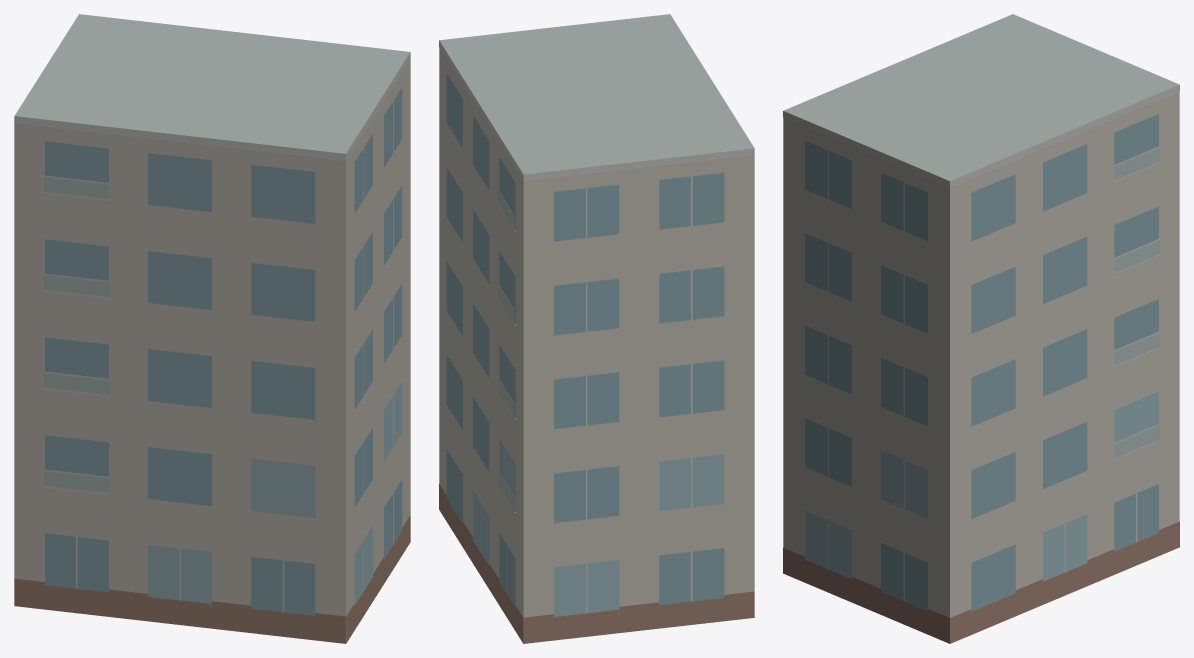
File: survey-upis-32933166.glb
The picture shows the model from 3 angles, left to right: view 1: azimuth 30°, elevation 25°; view 2: azimuth 150°, elevation 25°; view 3: azimuth 270°, elevation 25°; orthographic projection. The views are drawn at different scales.
Parts seen in each view (by area): view 1: survey-upis-32933166.tmp; view 2: survey-upis-32933166.tmp; view 3: survey-upis-32933166.tmp.
Part boxes in pixels (left/top/right/bottom): survey-upis-32933166.tmp: left=14, top=14, right=410, bottom=643; survey-upis-32933166.tmp: left=439, top=14, right=754, bottom=643; survey-upis-32933166.tmp: left=783, top=14, right=1179, bottom=643.
Size of the model in its own units: 13.03 by 16.8 by 13.06.
